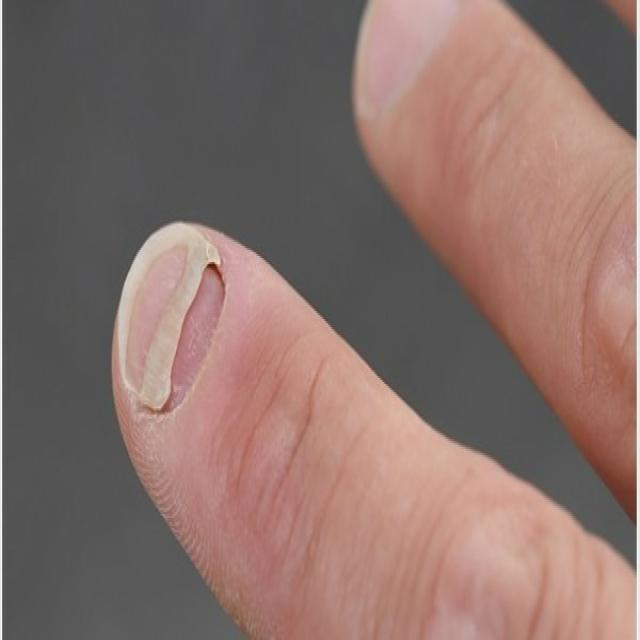diabetes: (118, 220, 226, 413)
